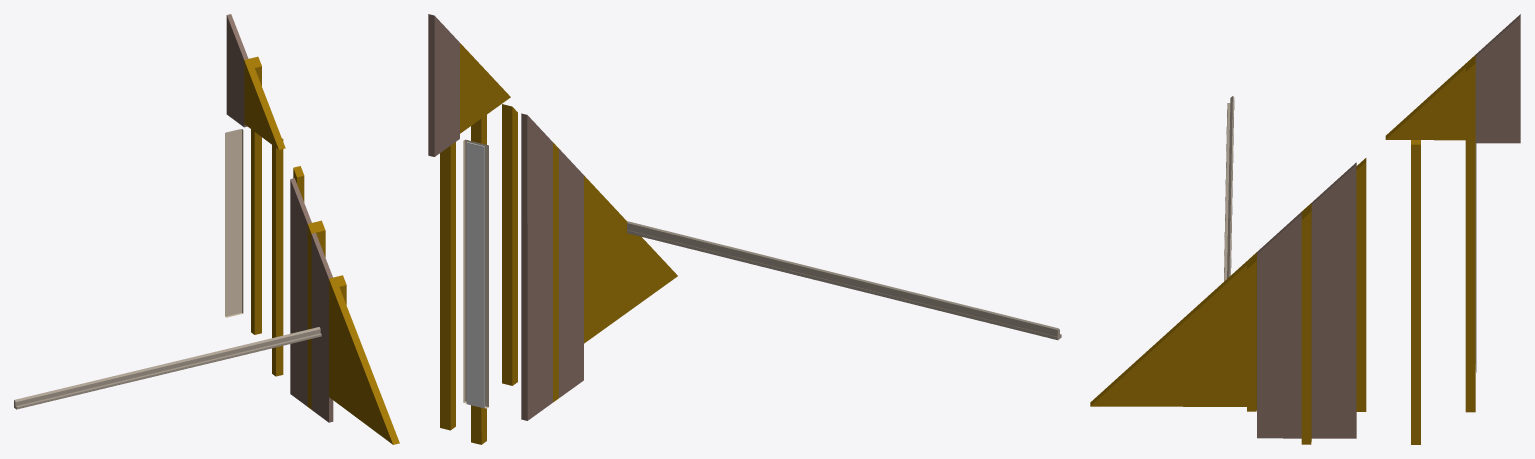
3 renders of one model, left to right at view 1: azimuth 30°, elevation 25°; view 2: azimuth 150°, elevation 25°; view 3: azimuth 270°, elevation 25°, orthographic. The views are drawn at different scales.
Size of the model in its own units: 5.07 by 4.74 by 4.37.
